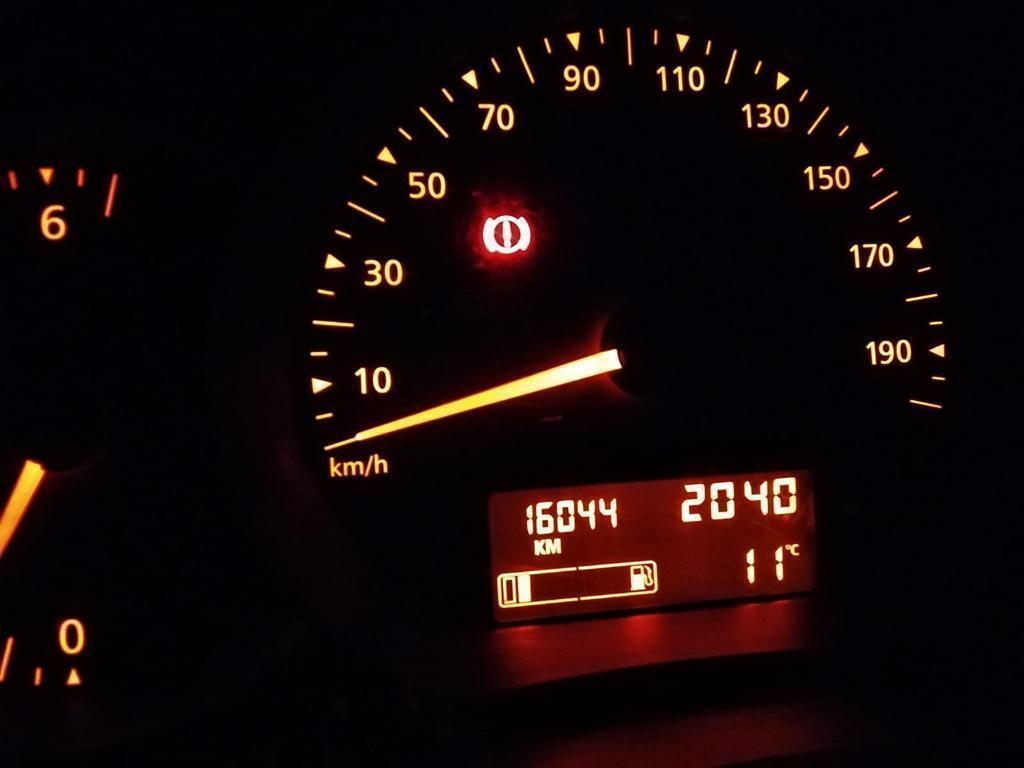0: (709, 481, 735, 520), (772, 475, 797, 515), (556, 499, 576, 533)
1: (773, 544, 784, 582), (745, 547, 755, 584), (525, 503, 533, 535)
2: (680, 482, 705, 523)
4: (742, 480, 769, 516), (598, 497, 619, 528), (576, 499, 596, 531)
6: (535, 501, 554, 534)
X: (544, 537, 562, 555), (532, 538, 544, 557), (790, 542, 801, 556)
odometer: (486, 467, 822, 626)
